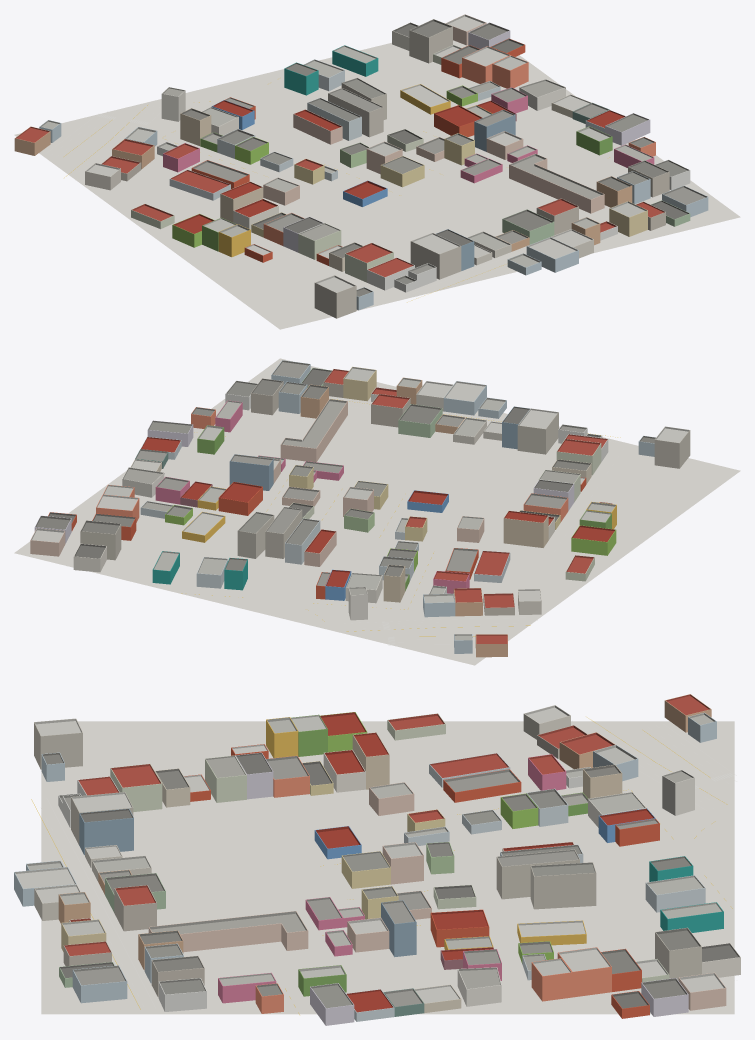
3 views of the same model, one above another, from view 1: azimuth 30°, elevation 25°; view 2: azimuth 150°, elevation 25°; view 3: azimuth 270°, elevation 25° (orthographic). The views are drawn at different scales.
Visible parts, largest first — view 1: ground, walls, roofs; view 2: ground, walls, roofs; view 3: ground, walls, roofs, markings.
Part boxes in pixels (x1,y1,x2,y2): ground: (14,40,740,329); walls: (14,22,708,318); roofs: (15,14,707,296); ground: (14,358,740,665); walls: (30,364,690,657); roofs: (30,360,689,643); ground: (41,721,734,1014); walls: (14,701,740,1025); roofs: (14,694,740,1012); markings: (31,717,736,1014).
Size of what is drawn, in the model's own units: 269 by 13.36 by 262.
